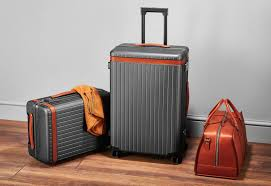suitcase: (105, 8, 191, 167), (23, 85, 109, 167)
